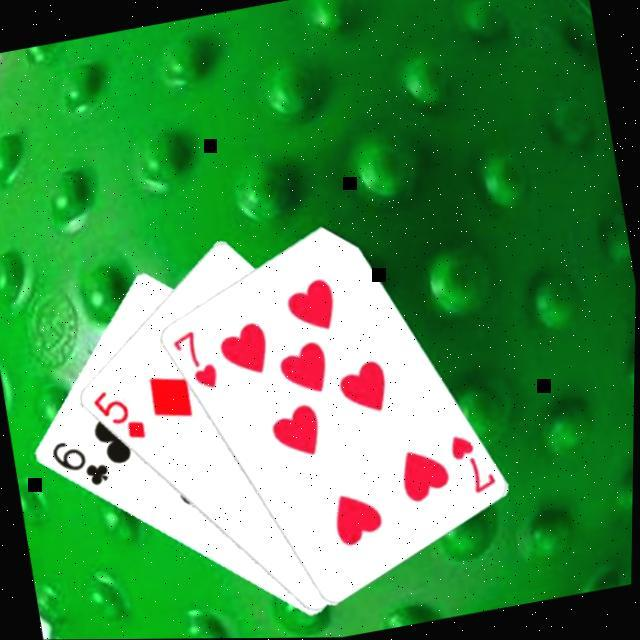5D: (88, 382, 152, 450)
6C: (47, 432, 116, 496)
7H: (446, 426, 504, 502), (168, 324, 224, 398)
